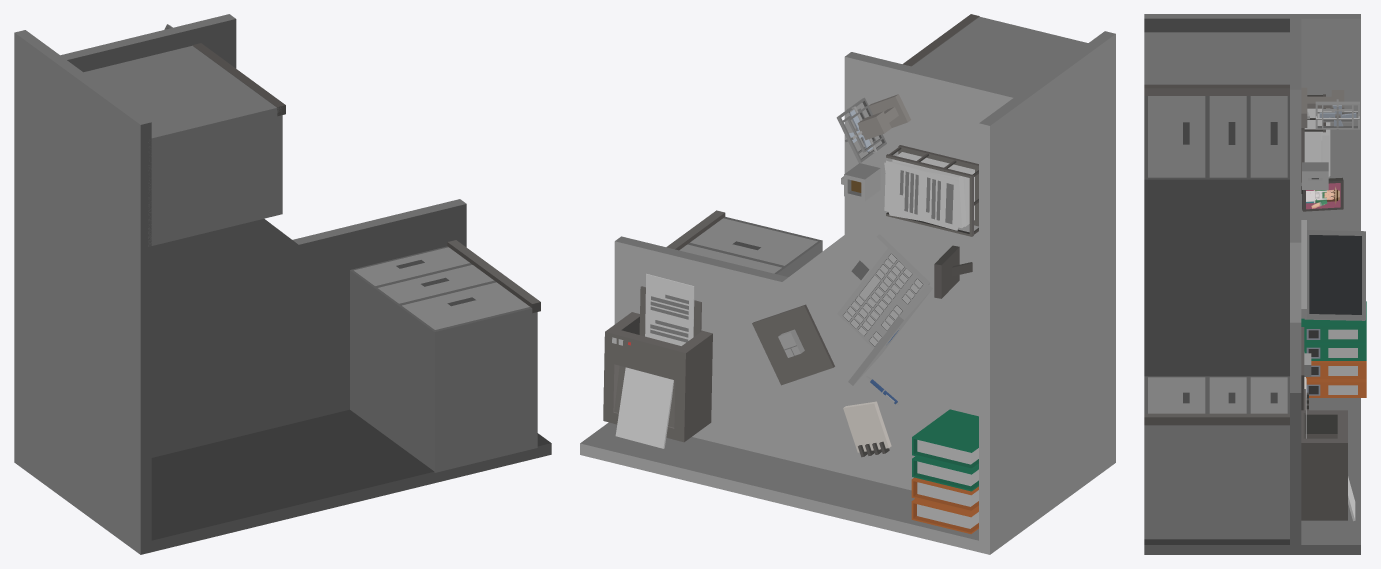
File: DeskPreset3.glb
3 views of the same model, side by side, from view 1: azimuth 30°, elevation 25°; view 2: azimuth 150°, elevation 25°; view 3: azimuth 270°, elevation 25° (orthographic). The views are drawn at different scales.
Parts seen in each view (by area): view 1: SO_DeskPreset_03; view 2: SO_DeskPreset_03; view 3: SO_DeskPreset_03.
Boxes of the visible parts, x1,y1,x2,y2 form: SO_DeskPreset_03: (14, 14, 551, 554); SO_DeskPreset_03: (580, 14, 1115, 554); SO_DeskPreset_03: (1144, 14, 1366, 554).
Bounding box in the file's own units: 4.08 × 4.08 × 2.23.
1 material, 1 textured.
